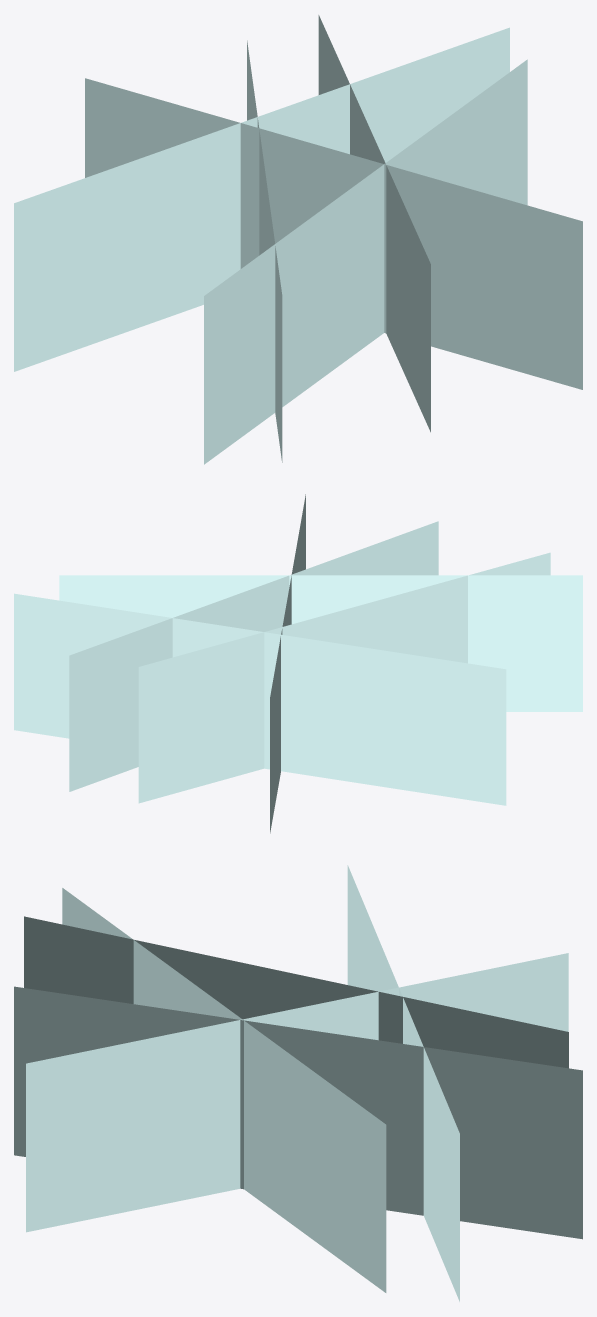
Rendered from cotf_grass.FBX.
3 renders of one model, top to bottom at view 1: azimuth 30°, elevation 25°; view 2: azimuth 150°, elevation 25°; view 3: azimuth 270°, elevation 25°, orthographic. The views are drawn at different scales.
Parts seen in each view (by area): view 1: cotf_grass; view 2: cotf_grass; view 3: cotf_grass.
Boxes of the visible parts, x1,y1,x2,y2 form: cotf_grass: (14, 15, 582, 464); cotf_grass: (14, 494, 582, 833); cotf_grass: (14, 865, 582, 1301).
Size of the model in its own units: 5.07 by 1.48 by 4.53.
